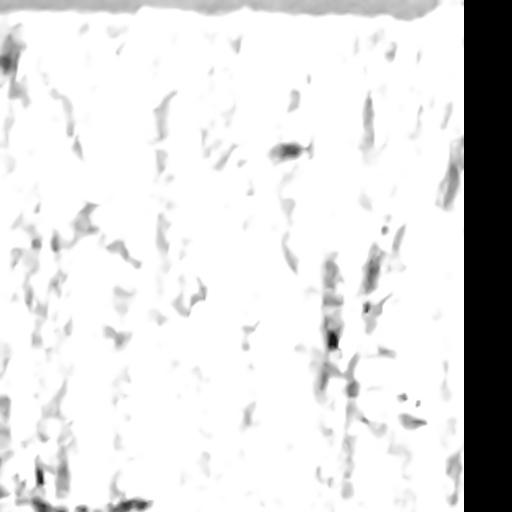egg: (111, 498, 151, 511), (327, 330, 338, 349)
